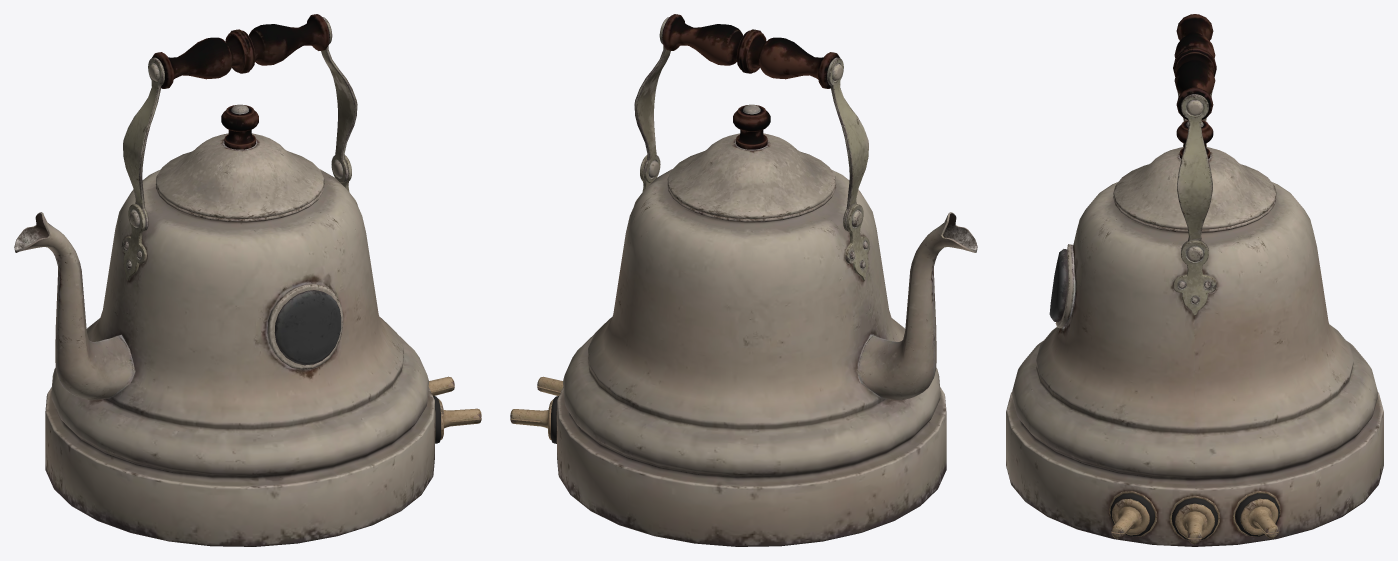
Rendered from vintage-electric-kettle.glb.
3 views of the same model, side by side, from view 1: azimuth 30°, elevation 25°; view 2: azimuth 150°, elevation 25°; view 3: azimuth 270°, elevation 25° (orthographic). The views are drawn at different scales.
Visible parts, largest first — view 1: vintage_electric_kettle; view 2: vintage_electric_kettle; view 3: vintage_electric_kettle.
Boxes of the visible parts, x1,y1,x2,y2 form: vintage_electric_kettle: (14, 14, 481, 546); vintage_electric_kettle: (510, 14, 977, 546); vintage_electric_kettle: (1006, 14, 1383, 546).
Size of the model in its own units: 0.3209 by 0.3048 by 0.2486.
2 materials, 2 textured.
